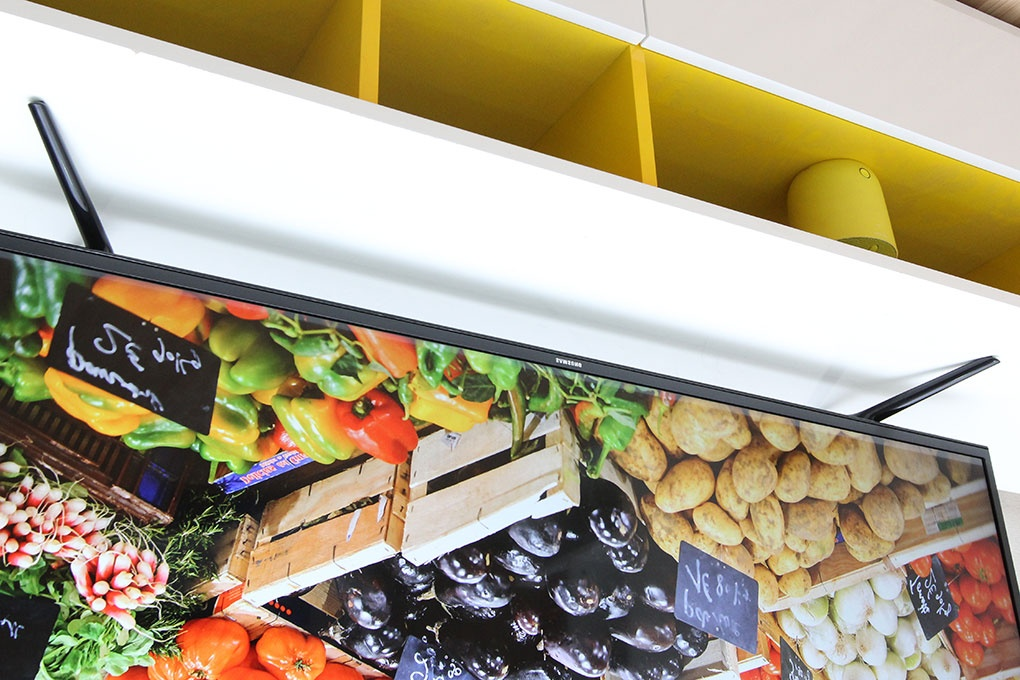SAMSUNG: (451, 271, 678, 404)
